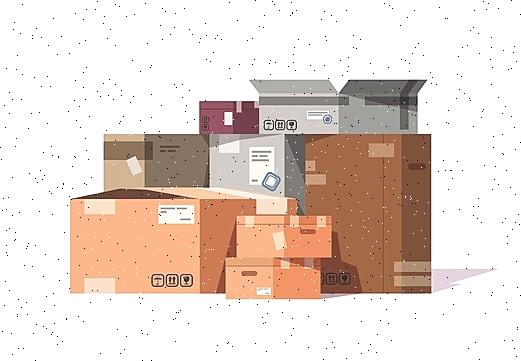Box: (305, 135, 430, 293), (70, 188, 255, 293), (250, 79, 426, 134), (210, 135, 305, 214), (104, 134, 209, 190), (236, 216, 332, 258), (226, 258, 321, 299), (199, 102, 258, 134)
